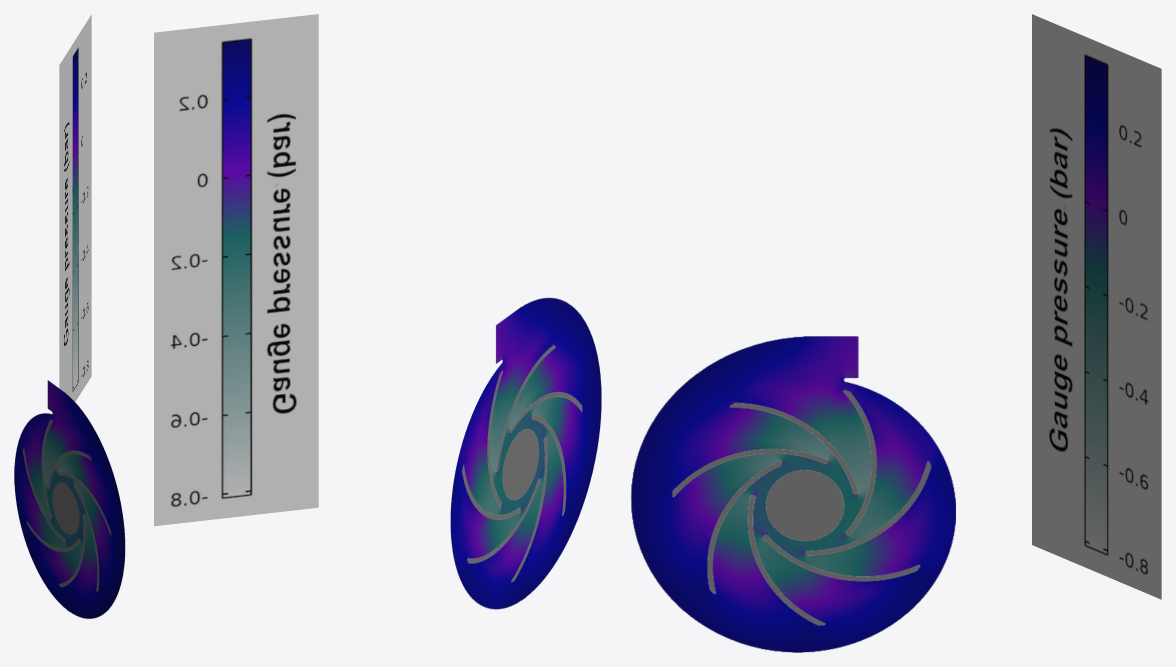
Rendered from Plong03.glb.
The picture shows the model from 3 angles, left to right: view 1: azimuth 30°, elevation 25°; view 2: azimuth 150°, elevation 25°; view 3: azimuth 270°, elevation 25°; orthographic projection. The views are drawn at different scales.
Parts seen in each view (by area): view 1: pressure map long, Pscale.001; view 2: Pscale.001, pressure map long; view 3: pressure map long, Pscale.001.
Boxes of the visible parts, x1,y1,x2,y2 form: pressure map long: [14, 380, 125, 618]; Pscale.001: [59, 14, 91, 401]; Pscale.001: [154, 14, 318, 526]; pressure map long: [450, 297, 601, 609]; pressure map long: [630, 336, 955, 652]; Pscale.001: [1032, 14, 1161, 599].
Size of the model in its own units: 0.1832 by 0.5585 by 0.3899.
2 materials, 2 textured.
